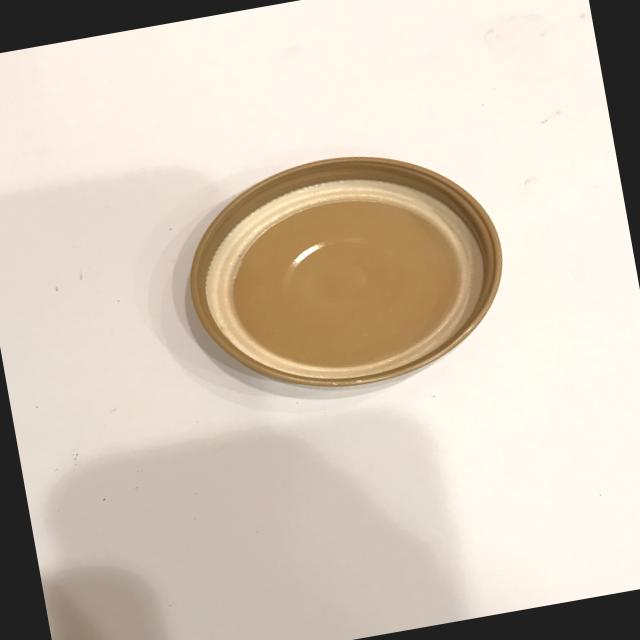Metal: (152, 117, 528, 426)
